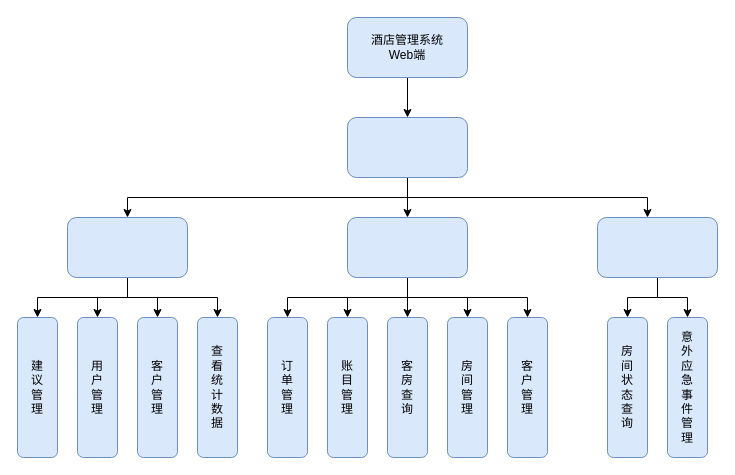
Some shapes in this 735 by 475 pixel diagram are drawn without their labels. The shapes that lost their labels are listed below. From the top down, each one's box as (x1, y1, x2, y2) in pixels, then its label:
(346, 116, 468, 178): 登录
(66, 216, 188, 278): 经理
(346, 216, 468, 278): 前台
(596, 216, 718, 278): 安保人员
